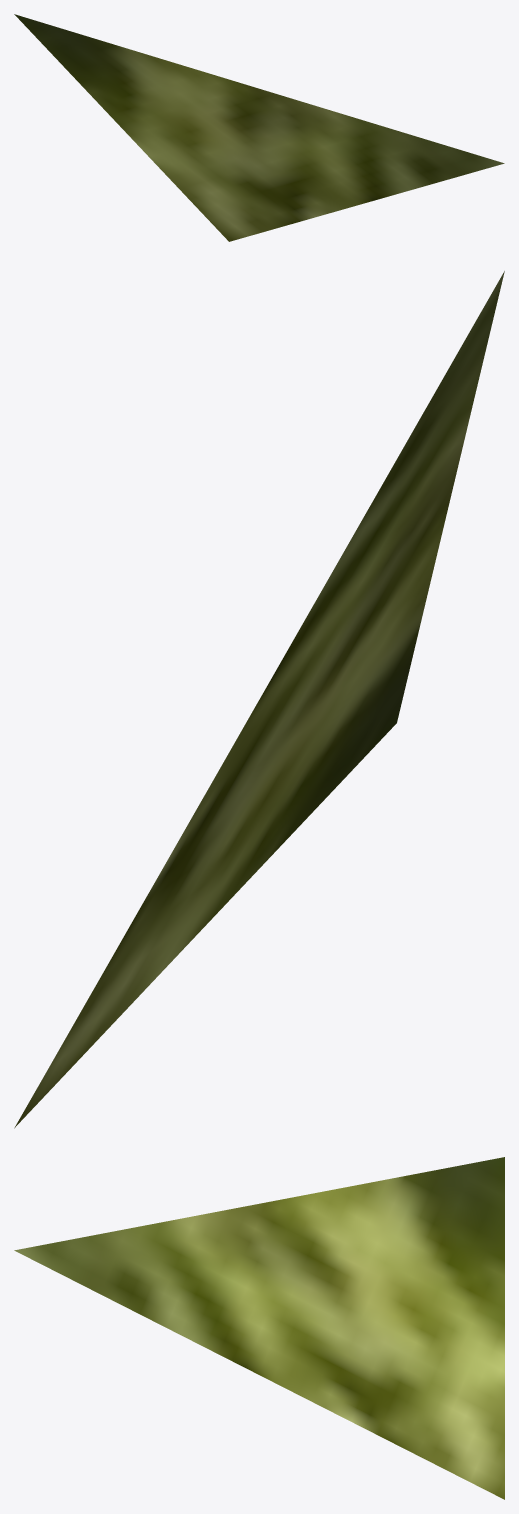
3 views of the same model, one above another, from view 1: azimuth 30°, elevation 25°; view 2: azimuth 150°, elevation 25°; view 3: azimuth 270°, elevation 25° (orthographic). The views are drawn at different scales.
Bounding box in the file's own units: 0.1647 × 0.2052 × 0.3658.
1 material, 1 textured.
